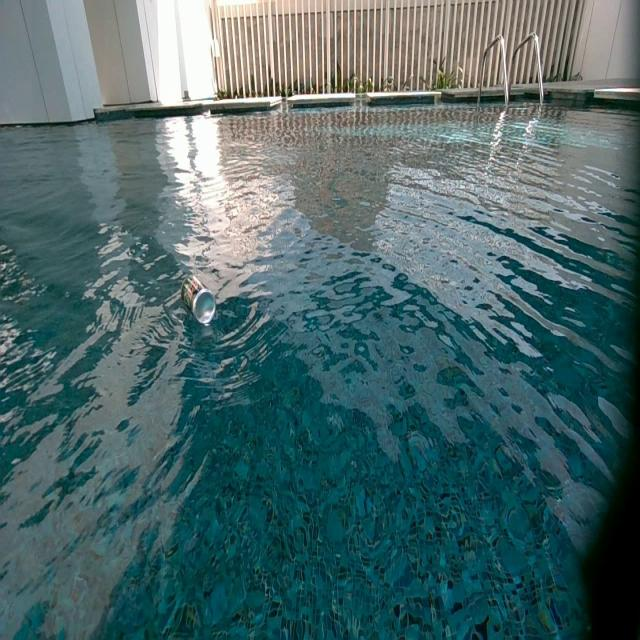Cans: (180, 278, 217, 326)
